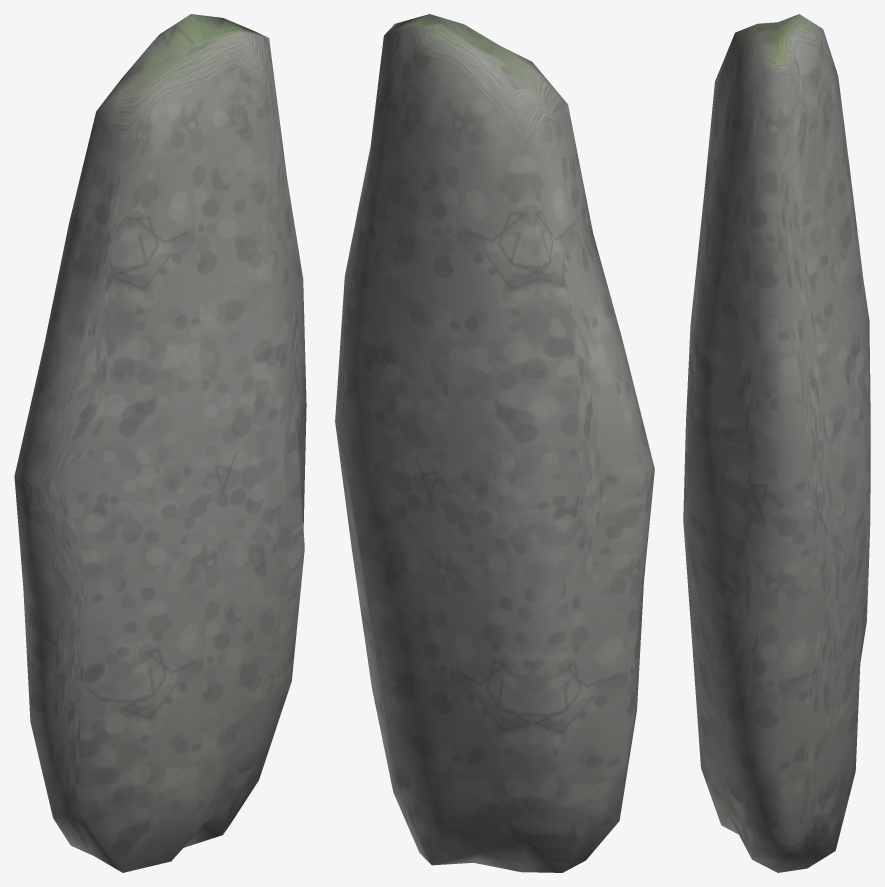
File: rock_standing.glb
The picture shows the model from 3 angles, left to right: view 1: azimuth 30°, elevation 25°; view 2: azimuth 150°, elevation 25°; view 3: azimuth 270°, elevation 25°; orthographic projection. The views are drawn at different scales.
Parts seen in each view (by area): view 1: rock_standing_stone; view 2: rock_standing_stone; view 3: rock_standing_stone.
Part boxes in pixels (left/top/right/bottom): rock_standing_stone: left=14, top=14, right=306, bottom=872; rock_standing_stone: left=335, top=14, right=654, bottom=872; rock_standing_stone: left=683, top=14, right=870, bottom=872.
Size of the model in its own units: 1.08 by 2.87 by 0.5759.
Materials: 1 (1 with a texture image).
